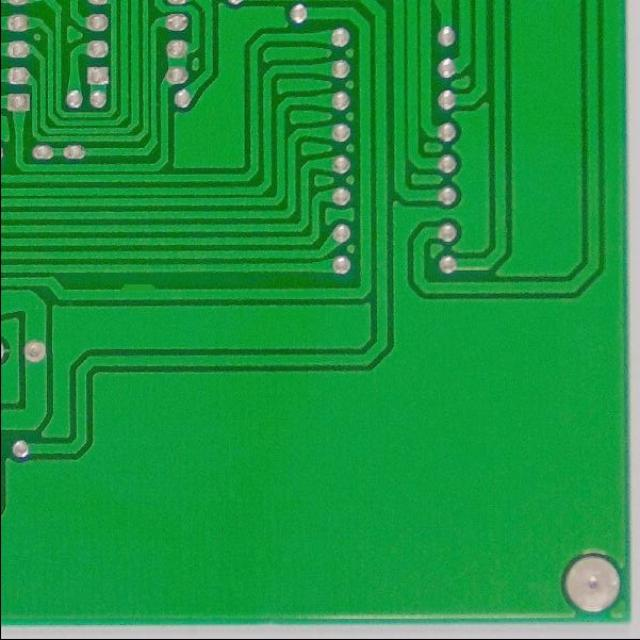spur: (114, 281, 161, 300), (429, 1, 453, 27)
